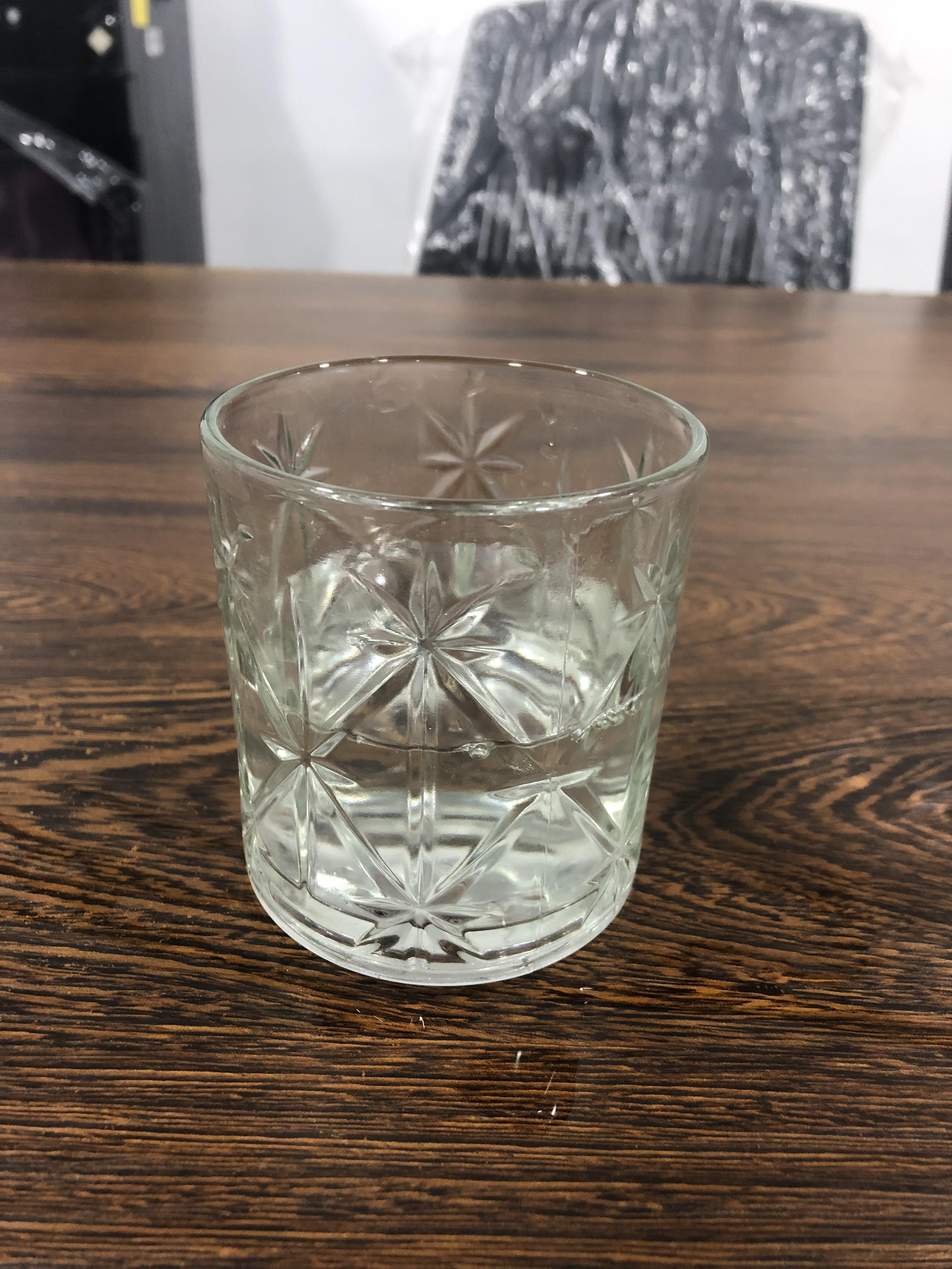glass-normal: (196, 355, 711, 993)
